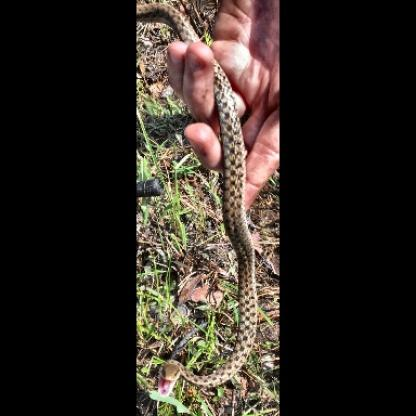Snake: (153, 4, 264, 408)
